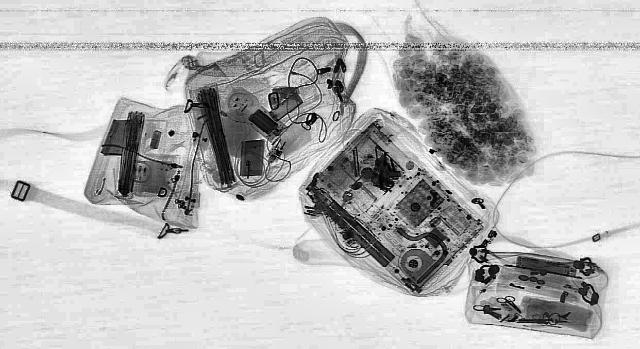Scissors: (495, 296, 529, 316)
